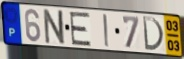6: (24, 8, 42, 44)
7: (121, 14, 141, 50)
D: (141, 15, 166, 53)
E: (68, 11, 93, 48)
I: (102, 13, 111, 49)
N: (43, 9, 67, 47)
